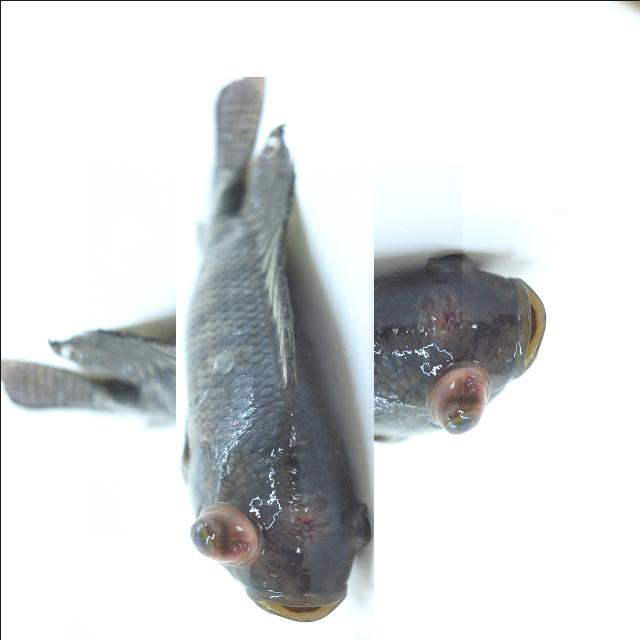streptococcus Disease: (88, 163, 461, 536)
